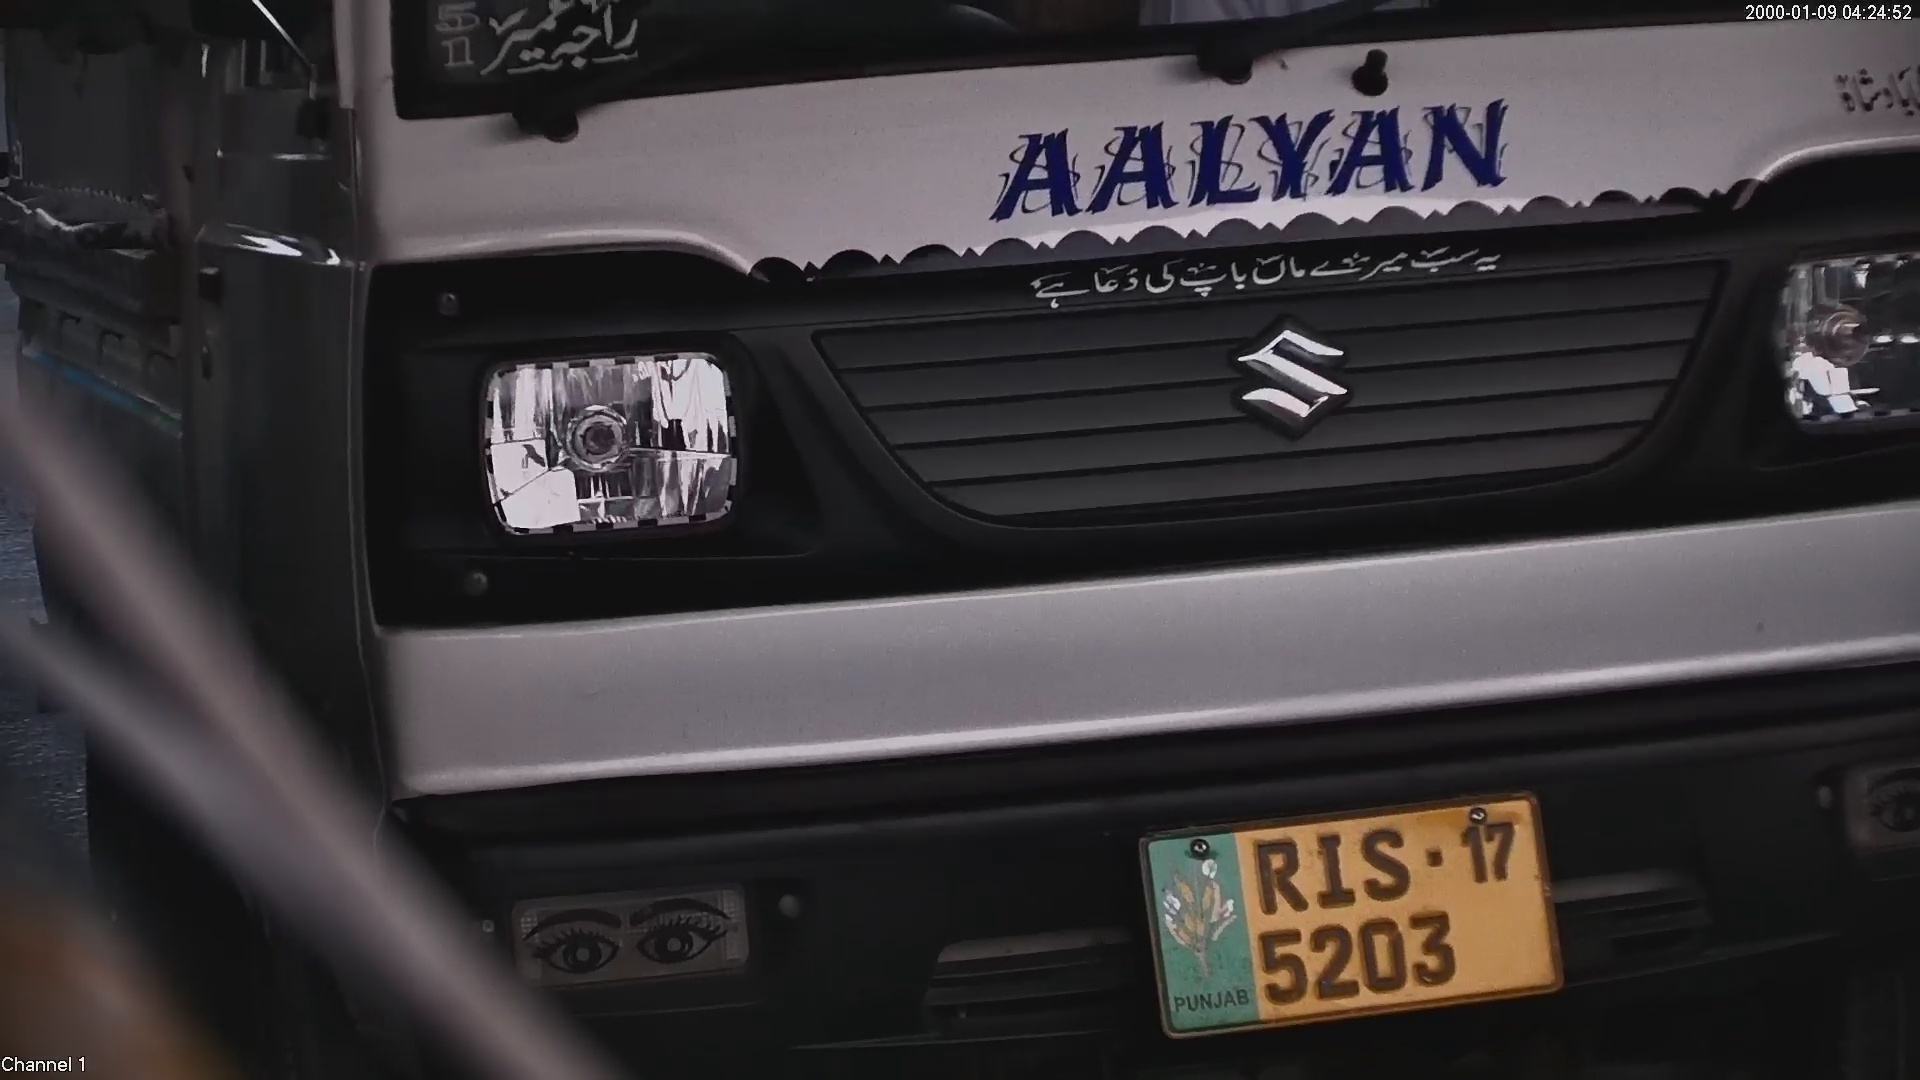Number_Plate: (1123, 788, 1580, 1023)
Undefined: (465, 340, 752, 533), (982, 112, 1517, 214), (989, 236, 1513, 303), (510, 879, 778, 975), (1226, 325, 1354, 425)
